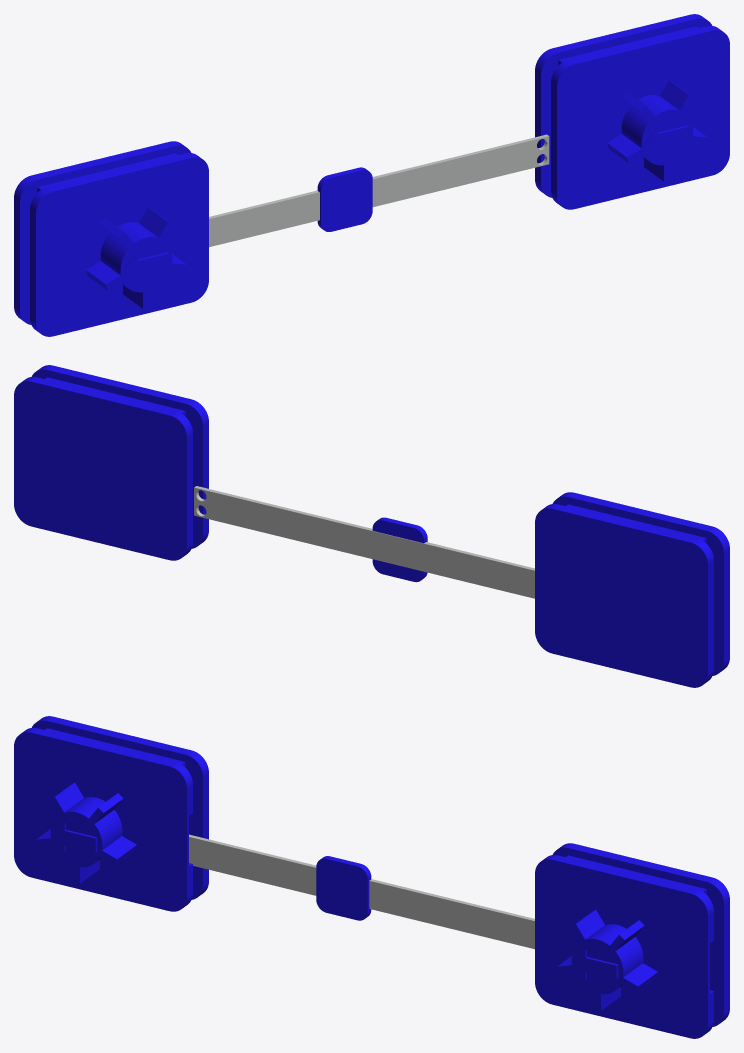
Rendered from blocca_cassetti.fbx.
3 views of the same model, one above another, from view 1: azimuth 30°, elevation 25°; view 2: azimuth 150°, elevation 25°; view 3: azimuth 330°, elevation 25° (orthographic).
Visible parts, largest first — view 1: Slider.001, Slider, TPUStrip200, Lockplate, Lockplate.001; view 2: Lockplate.001, Lockplate, TPUStrip200, Slider, Slider.001; view 3: Slider, Slider.001, TPUStrip200, Lockplate.001, Lockplate.
Part boxes in pixels (x1,y1,x2,y2): Slider.001: [551, 26, 729, 209]; Slider: [30, 153, 208, 336]; TPUStrip200: [209, 134, 549, 247]; Lockplate: [14, 141, 191, 324]; Lockplate.001: [535, 14, 712, 197]; Lockplate.001: [14, 376, 192, 560]; Lockplate: [535, 504, 713, 687]; TPUStrip200: [194, 486, 534, 598]; Slider: [552, 492, 729, 675]; Slider.001: [31, 365, 208, 548]; Slider: [14, 728, 192, 911]; Slider.001: [535, 855, 713, 1038]; TPUStrip200: [189, 834, 534, 949]; Lockplate.001: [552, 843, 729, 1026]; Lockplate: [31, 716, 208, 899].
Bounding box in the file's own units: 12.01 × 2.4 × 1.43.
